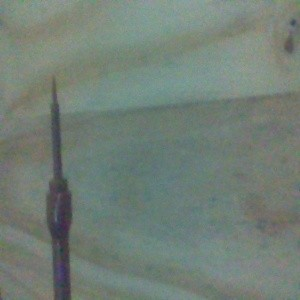solder: (45, 76, 72, 300)
